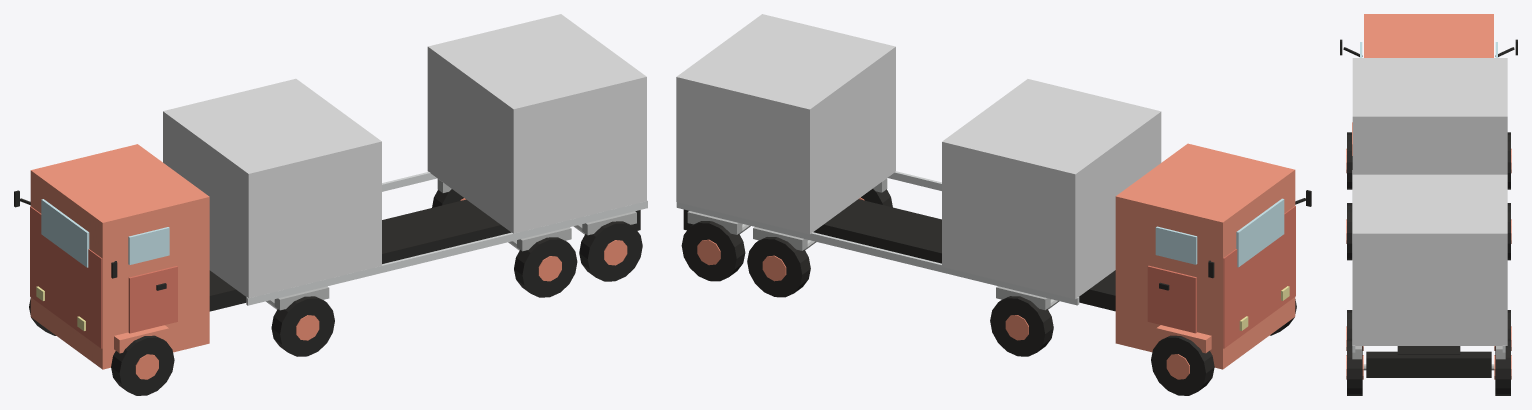
File: camion-caja-cabina-frontal.glb
The picture shows the model from 3 angles, left to right: view 1: azimuth 30°, elevation 25°; view 2: azimuth 150°, elevation 25°; view 3: azimuth 270°, elevation 25°; orthographic projection. The views are drawn at different scales.
Visible parts, largest first — view 1: Cubo.001, Cubo, orange_cab_main, black_main_chassis, orange_front_panel, left_bottom_trim, left_door_panel, tire_02_left, tire_04_left, tire_03_left, tire_01_left, front_windshield (+2 smaller); view 2: Cubo.001, Cubo, orange_cab_main, black_main_chassis, orange_front_panel, right_bottom_trim, right_door_panel, tire_04_right, tire_02_right, tire_03_right, tire_01_right, front_windshield (+2 smaller); view 3: Cubo.001, Cubo, orange_cab_main, black_rear_step, tire_04_left, tire_04_right, black_main_chassis, tire_02_left, tire_01_left, tire_01_right, tire_02_right, left_bottom_trim (+1 smaller).
Boxes of the visible parts, x1,y1,x2,y2 form: Cubo.001: [427, 14, 646, 233]; Cubo: [163, 78, 381, 298]; orange_cab_main: [30, 144, 209, 369]; black_main_chassis: [209, 199, 510, 311]; orange_front_panel: [30, 206, 102, 348]; left_bottom_trim: [246, 200, 647, 305]; left_door_panel: [128, 266, 177, 333]; tire_02_left: [271, 296, 334, 356]; tire_04_left: [579, 221, 642, 281]; tire_03_left: [514, 237, 577, 297]; tire_01_left: [111, 335, 174, 395]; front_windshield: [41, 199, 89, 267]; Cubo.001: [676, 14, 895, 234]; Cubo: [942, 79, 1161, 299]; orange_cab_main: [1115, 143, 1295, 369]; black_main_chassis: [813, 199, 1115, 311]; orange_front_panel: [1223, 206, 1295, 348]; right_bottom_trim: [676, 202, 1079, 305]; right_door_panel: [1147, 265, 1196, 333]; tire_04_right: [681, 221, 745, 281]; tire_02_right: [990, 296, 1053, 356]; tire_03_right: [747, 237, 810, 297]; tire_01_right: [1151, 335, 1214, 395]; front_windshield: [1236, 198, 1284, 267]; Cubo.001: [1352, 174, 1507, 345]; Cubo: [1352, 58, 1507, 174]; orange_cab_main: [1364, 14, 1493, 57]; black_rear_step: [1366, 351, 1491, 377]; tire_04_left: [1347, 338, 1362, 395]; tire_04_right: [1495, 338, 1510, 395]; black_main_chassis: [1397, 346, 1460, 354]; tire_02_left: [1347, 203, 1352, 260]; tire_01_left: [1347, 132, 1352, 189]; tire_01_right: [1507, 132, 1510, 189]; tire_02_right: [1507, 203, 1510, 260]; left_bottom_trim: [1352, 170, 1355, 352].
Bounding box in the file's own units: 9.53 × 3.23 × 2.98.
